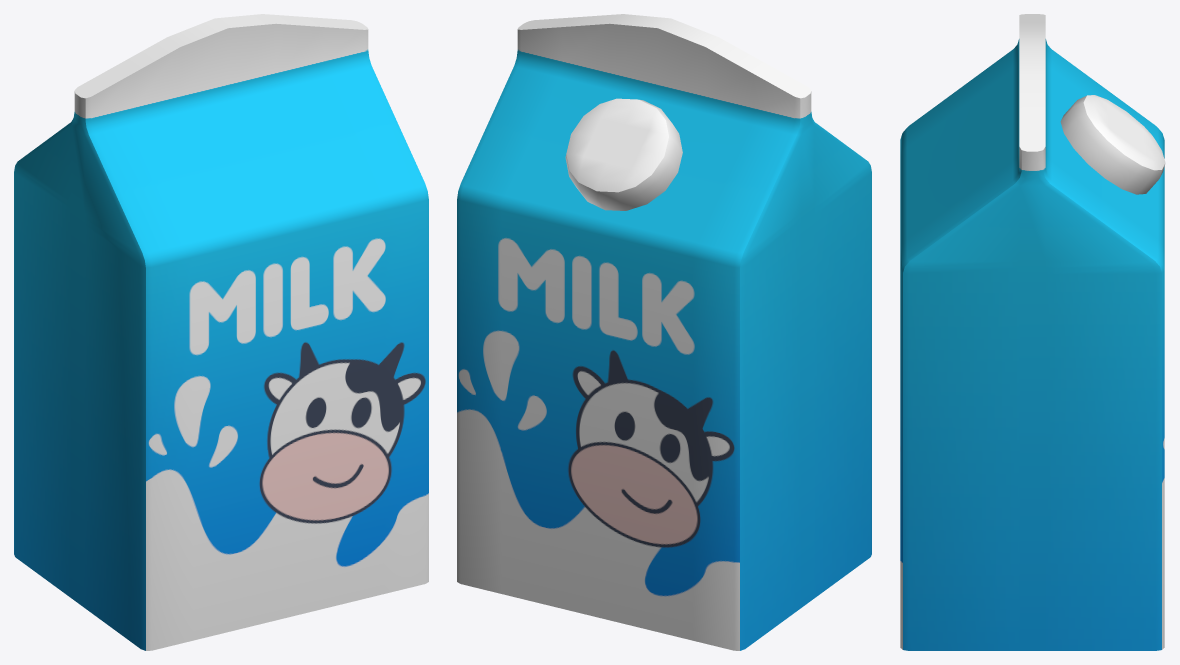
File: Milk.fbx
3 views of the same model, side by side, from view 1: azimuth 30°, elevation 25°; view 2: azimuth 150°, elevation 25°; view 3: azimuth 270°, elevation 25° (orthographic).
Parts seen in each view (by area): view 1: Milk; view 2: Milk; view 3: Milk.
Part boxes in pixels (<box>): Milk: <box>14,14,428,650</box>; Milk: <box>457,14,871,650</box>; Milk: <box>900,14,1165,650</box>.
Size of the model in its own units: 9.4 by 17.07 by 7.65.
